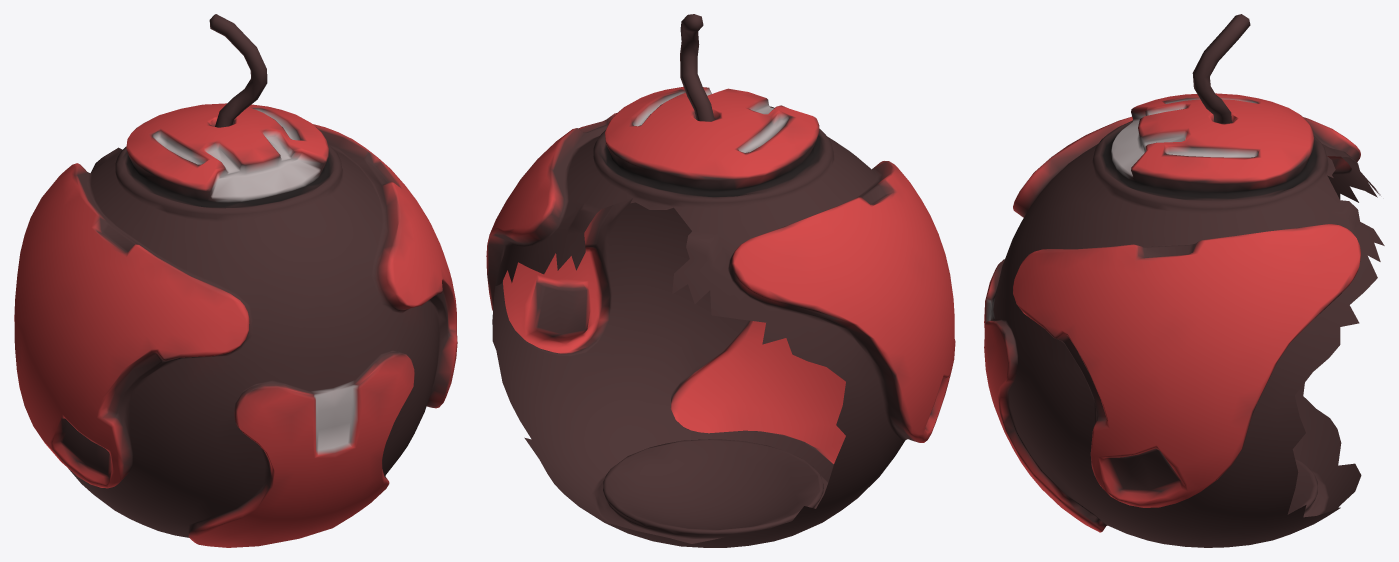
Rendered from SM_Bomb (1).fbx.
3 renders of one model, left to right at view 1: azimuth 30°, elevation 25°; view 2: azimuth 150°, elevation 25°; view 3: azimuth 270°, elevation 25°, orthographic. The views are drawn at different scales.
Visible parts, largest first — view 1: SM_Bomb01; view 2: SM_Bomb01; view 3: SM_Bomb01.
Boxes of the visible parts, x1,y1,x2,y2 form: SM_Bomb01: (14, 14, 457, 547); SM_Bomb01: (486, 14, 955, 547); SM_Bomb01: (984, 14, 1384, 547).
Size of the model in its own units: 5074 by 5882 by 4289.
